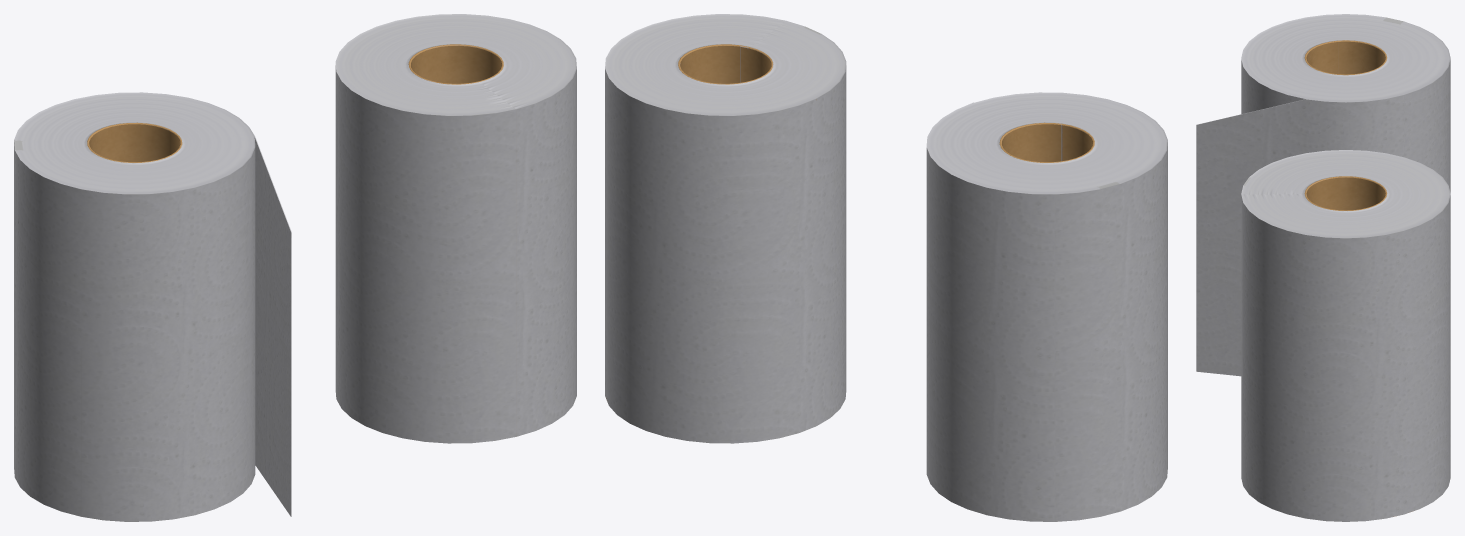
Rendered from PaperTowel.fbx.
The picture shows the model from 3 angles, left to right: view 1: azimuth 30°, elevation 25°; view 2: azimuth 150°, elevation 25°; view 3: azimuth 270°, elevation 25°; orthographic projection. The views are drawn at different scales.
Visible parts, largest first — view 1: PaperTowel2, PaperTowel; view 2: PaperTowel2, PaperTowel; view 3: PaperTowel, PaperTowel2.
Boxes of the visible parts, x1,y1,x2,y2 form: PaperTowel2: (14, 92, 291, 521); PaperTowel: (335, 14, 576, 443); PaperTowel2: (926, 92, 1167, 521); PaperTowel: (605, 14, 846, 443); PaperTowel: (1241, 150, 1450, 521); PaperTowel2: (1196, 14, 1450, 376).
Size of the model in its own units: 35.53 by 21.04 by 17.02.
